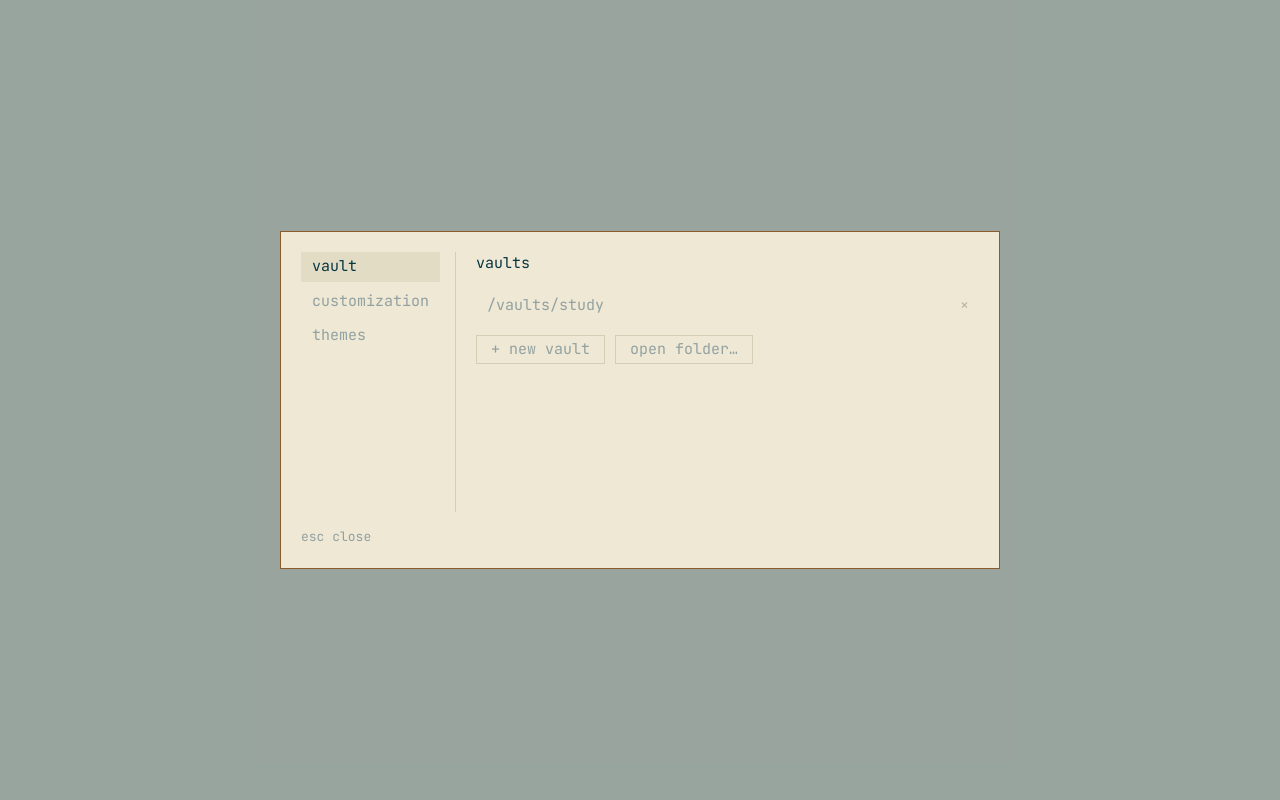
Test: ConfigModal › switches to the customization section from the sidebar
Click the button "customization".
click(370, 301)  # box [301, 287, 440, 316]
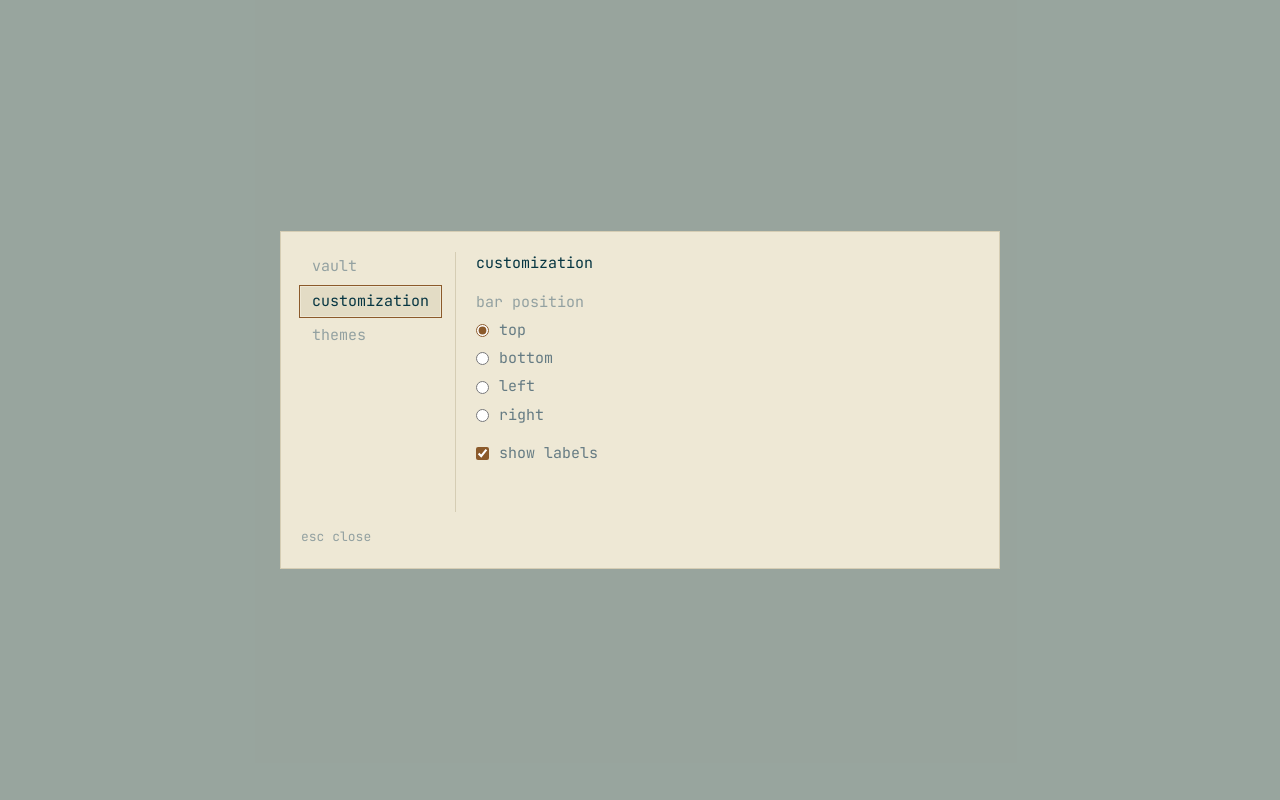
Expected: the element "bar position" is shown, [476, 292, 584, 425]
Expected: the checkbox labelled "show labels" is shown, [476, 447, 489, 460]
Expected: the text "vaults" is gone
